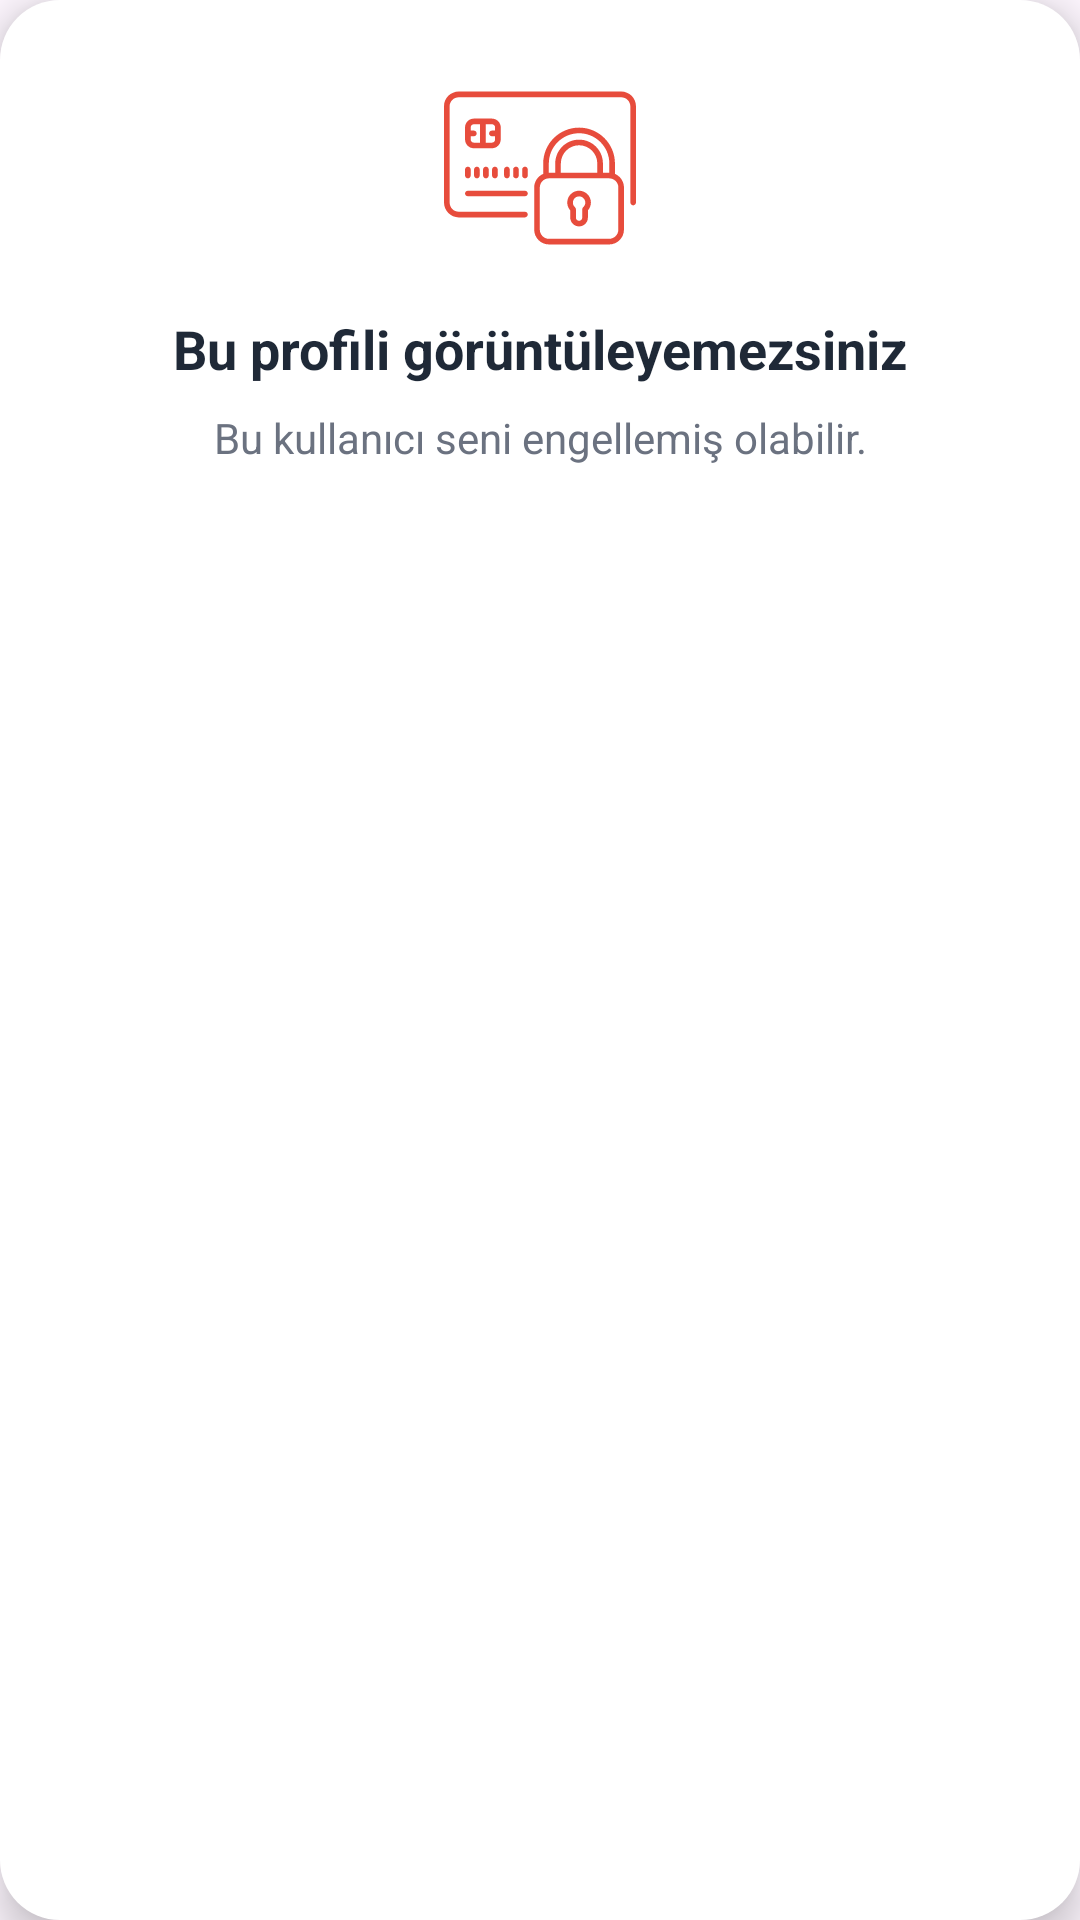

Where icons sit on this 1080px×1920px app screen, as (x1, y1, x2, y2):
engellendin: (444, 91, 636, 245)
